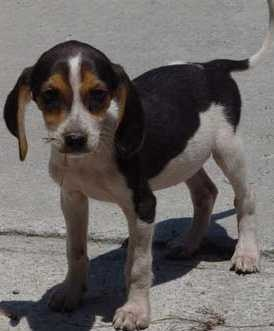Dog: (3, 40, 245, 327)
